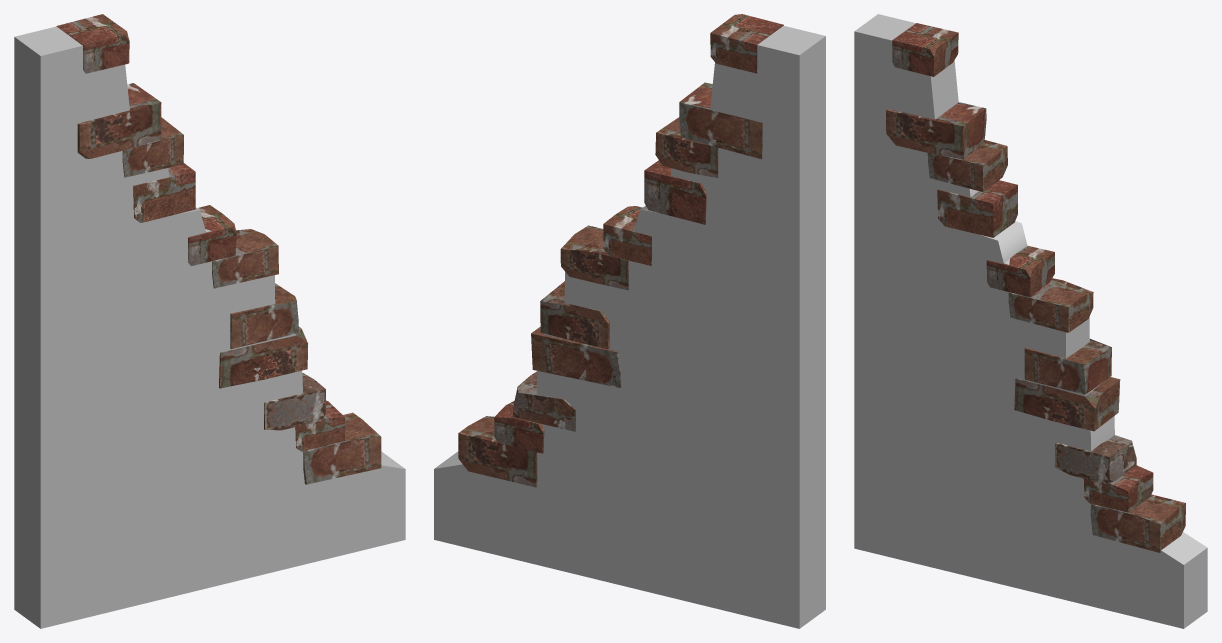
Rendered from SM_Wall_Ruined_06.fbx.
The picture shows the model from 3 angles, left to right: view 1: azimuth 30°, elevation 25°; view 2: azimuth 150°, elevation 25°; view 3: azimuth 330°, elevation 25°; orthographic projection. The views are drawn at different scales.
Visible parts, largest first — view 1: SM_Wall_Ruined_06_LOD0; view 2: SM_Wall_Ruined_06_LOD0; view 3: SM_Wall_Ruined_06_LOD0.
Part boxes in pixels (x1=…): SM_Wall_Ruined_06_LOD0: x1=14, y1=14, x2=405, y2=628; SM_Wall_Ruined_06_LOD0: x1=434, y1=14, x2=825, y2=628; SM_Wall_Ruined_06_LOD0: x1=854, y1=14, x2=1207, y2=628.
Size of what is drawn, in the model's own units: 400 by 601 by 57.82.
